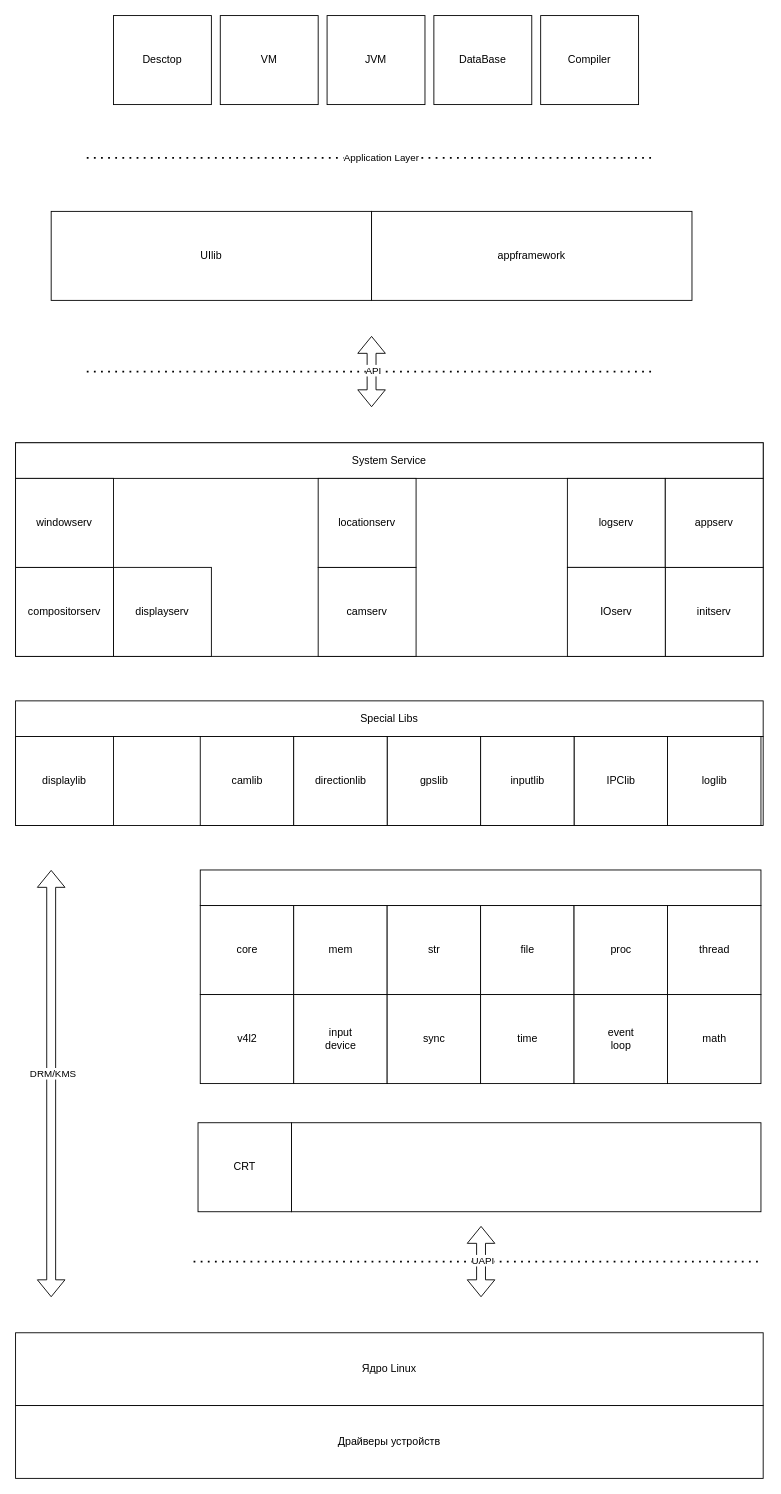
Image size: 781x1494. Some labels were removed from this diagram. Each missing label, with the centre of its shape:
Syscall Wrappers: [526,1167]
System Libs: [480,887]
